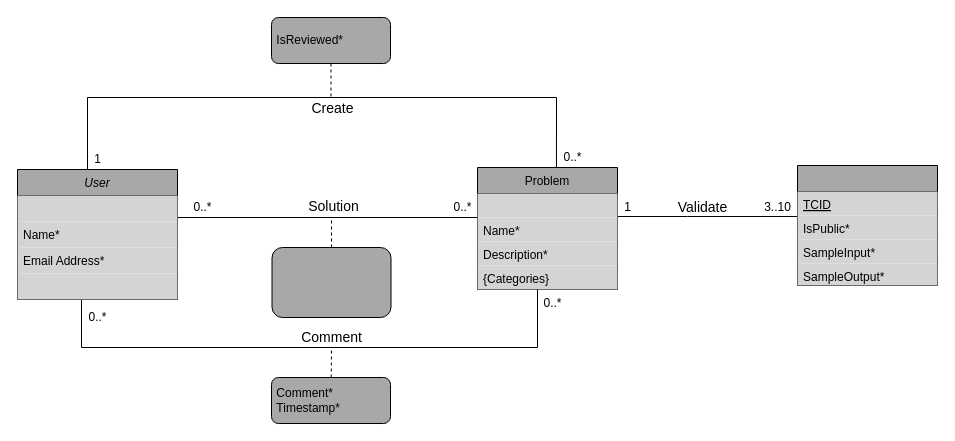
The diagram is 955 pixels wide and 441 high, and some of its shapes have lost their labels. The shapes that lost their labels are listed below. From the top down, each one's box as (x1, y1, x2, y2) in pixels, then its label:
(17, 195, 177, 221): Username
(477, 193, 617, 217): ProblemID
(796, 164, 938, 286): Test Case
(17, 273, 177, 299): IsAdmin*
(271, 246, 391, 318): Solution* Tokens PassRate* CompTime*
